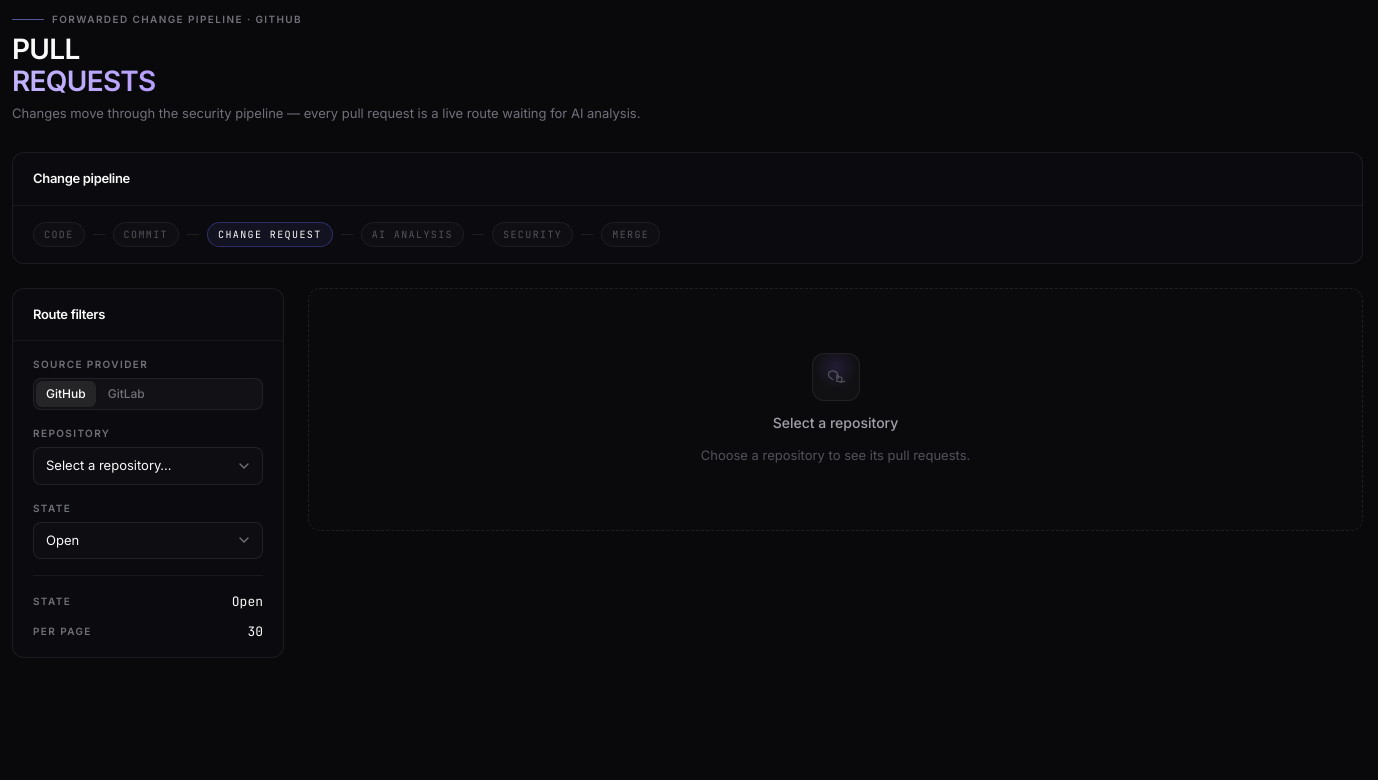
it: source provider switching › PullRequestsPage adopts merge request terminology for GitLab
Expected: the text "PULL" is shown, [12,32,80,66]
Expected: the text "REQUESTS" is shown, [12,65,640,97]
Click the tab "GitLab" at (126, 394), box [98,381,155,407]
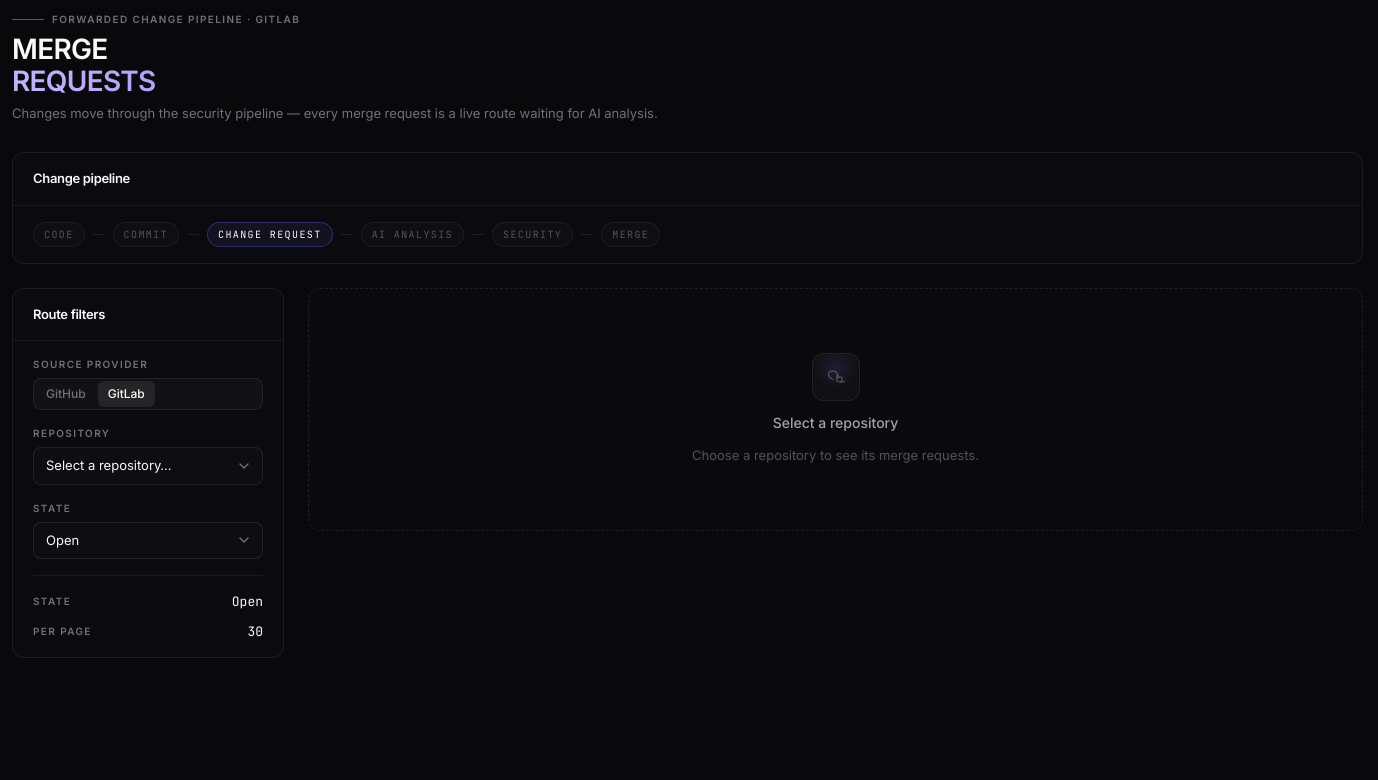
Now the heading "MERGE REQUESTS" is shown, box [12,33,658,97]
Now the text "Forwarded change pipeline · GitLab" is shown, box [52,13,300,25]
